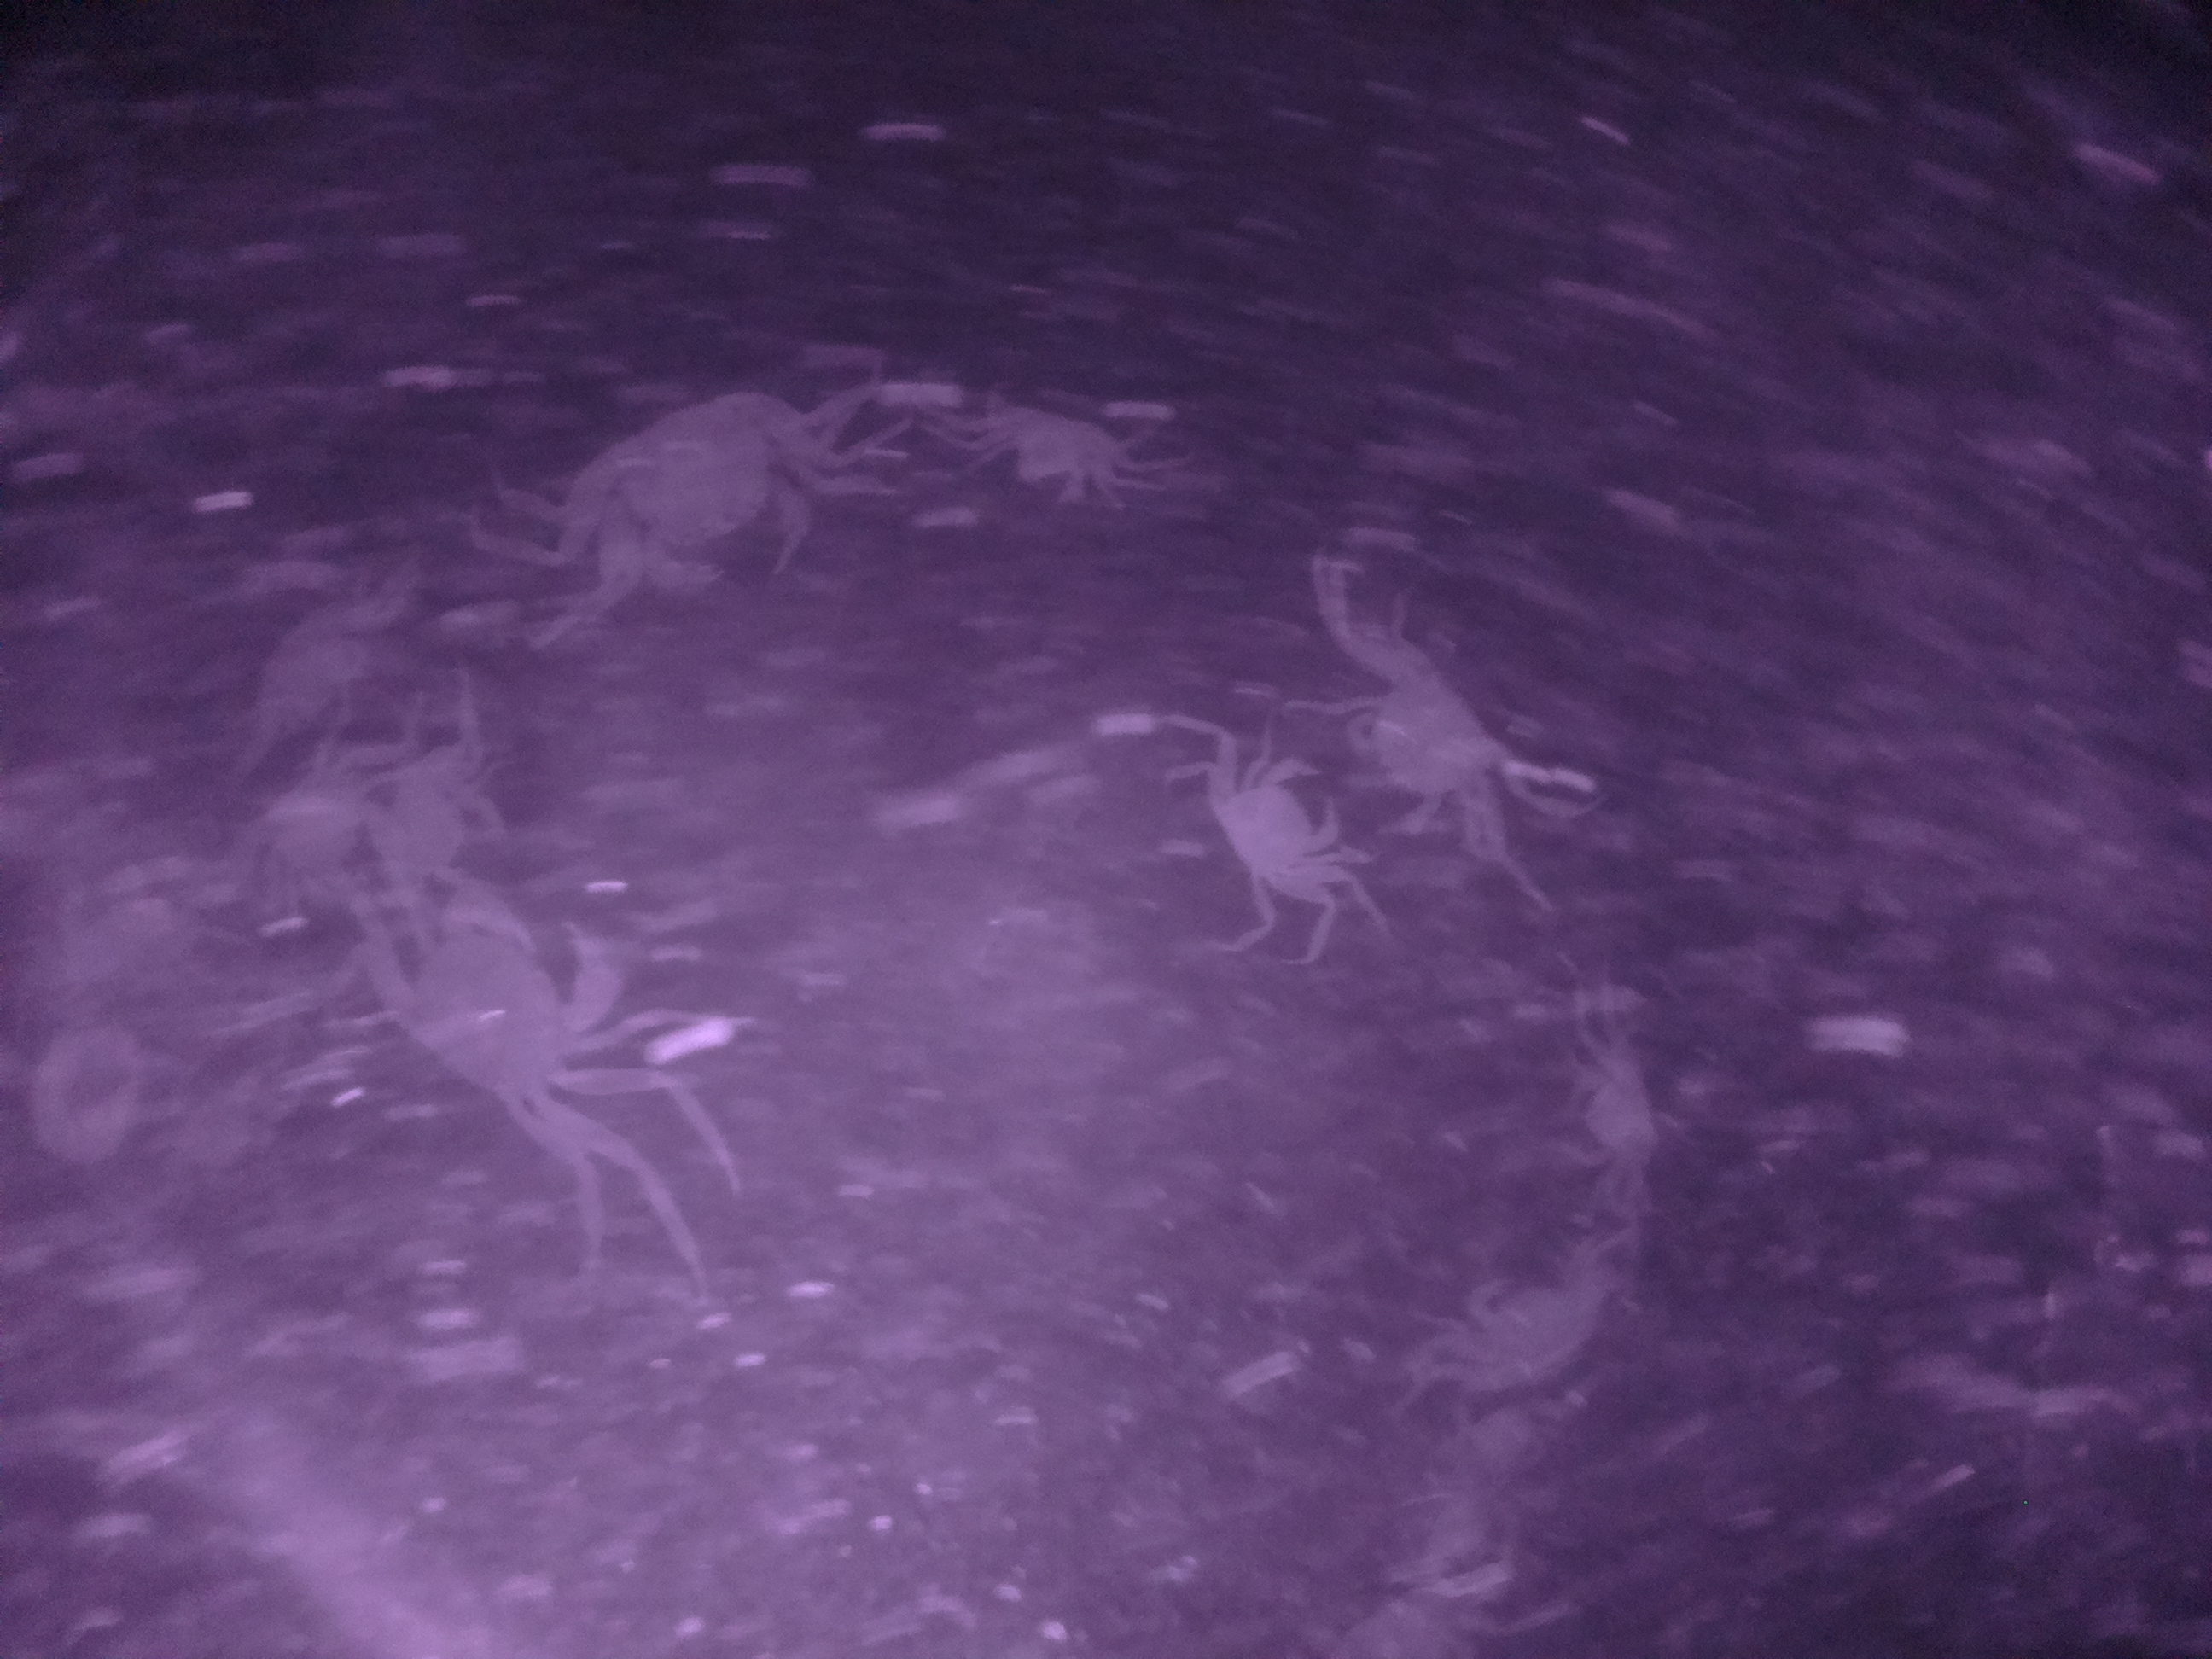Crab: (359, 849, 664, 1148), (561, 373, 833, 622), (1193, 727, 1350, 929), (1540, 1011, 1684, 1208), (970, 394, 1155, 500)
